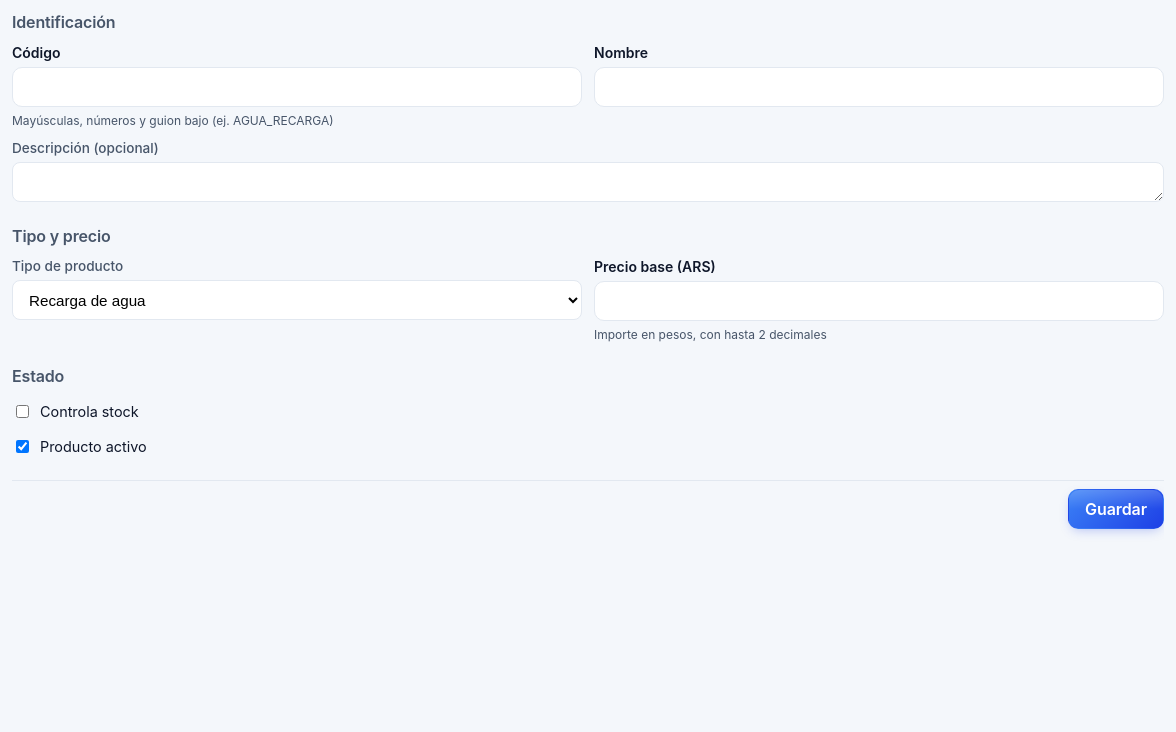
Scenario: ProductForm › rejects an invalid code and shows validation error
Type "invalid code!!!" into the field labelled "Código".
click(297, 87); type("invalid code!!!")  # box x1=13 y1=68 x2=581 y2=106
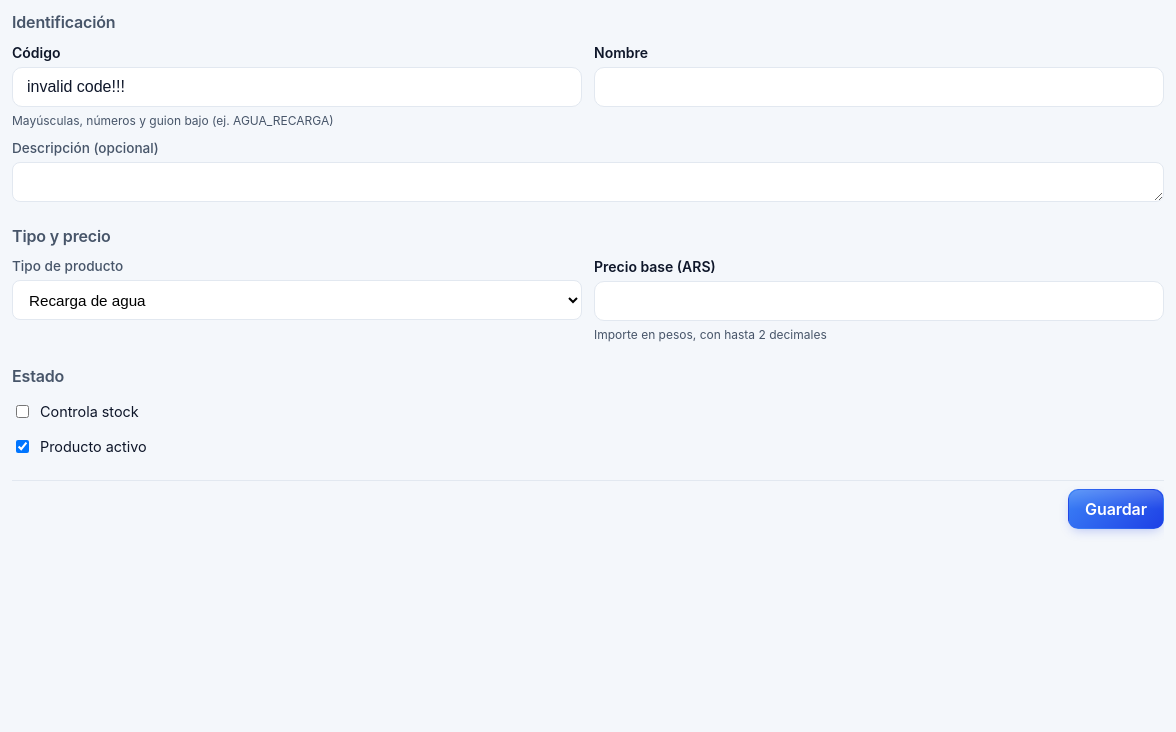
Click the button "Guardar".
click(1116, 509)  # box x1=1068 y1=489 x2=1164 y2=529
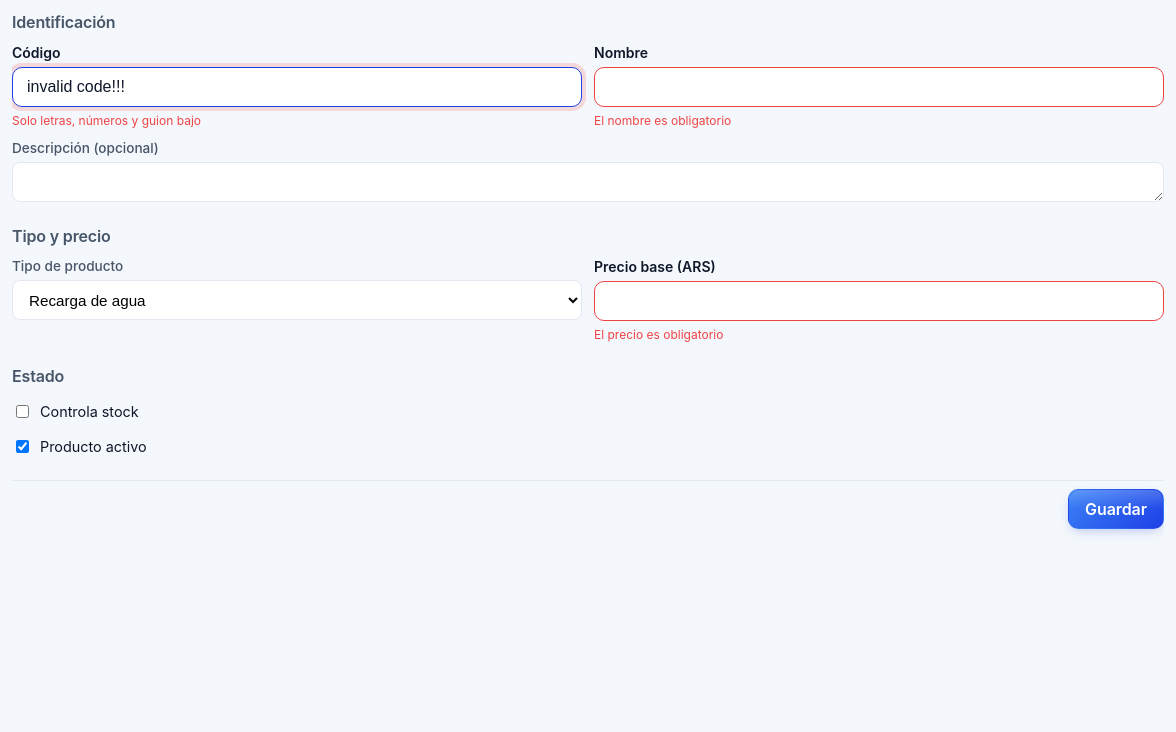
Expected: the text "Solo letras, números y guion bajo" is shown, x1=12 y1=113 x2=201 y2=128
